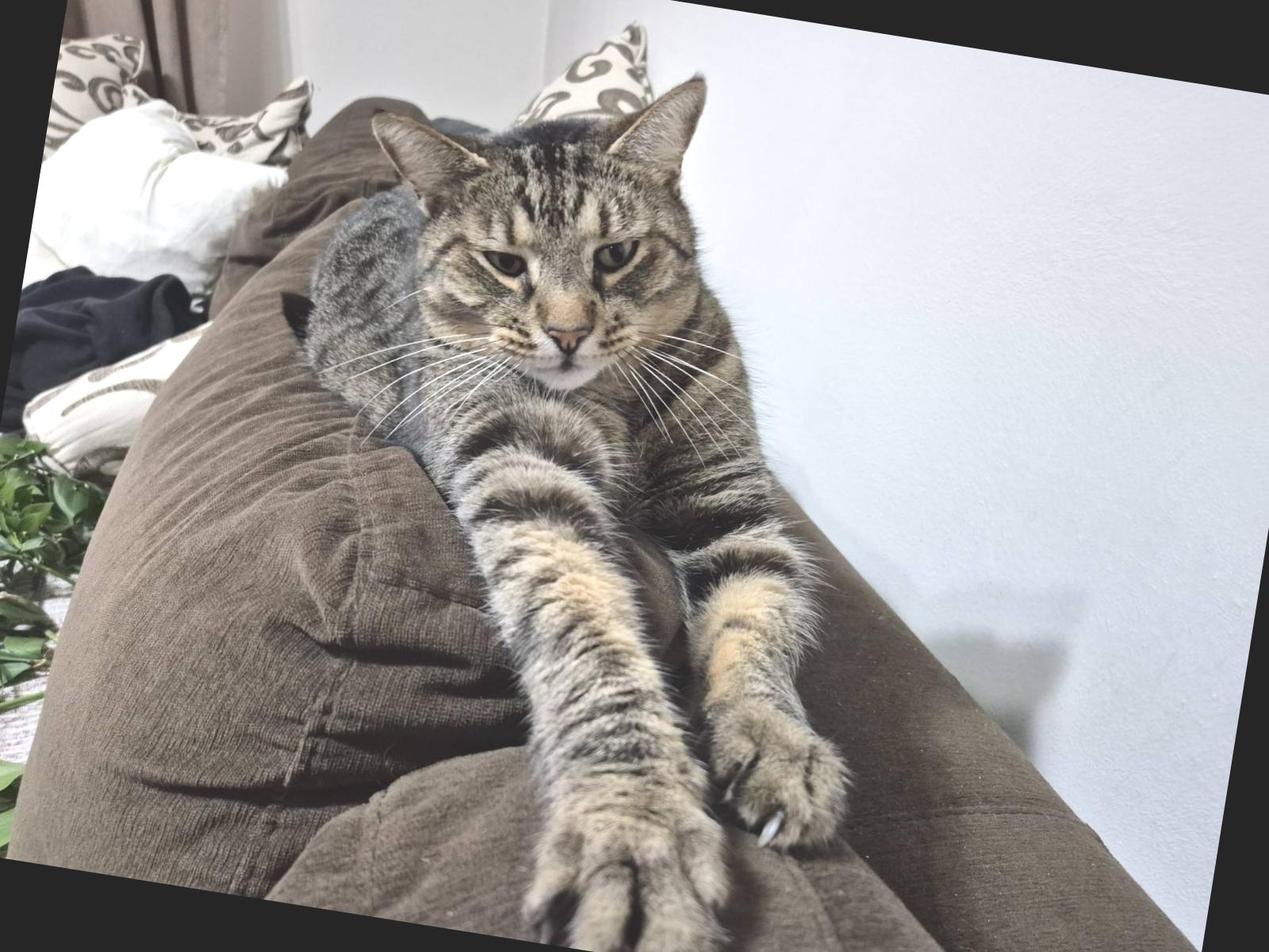macka: (213, 20, 960, 952)
